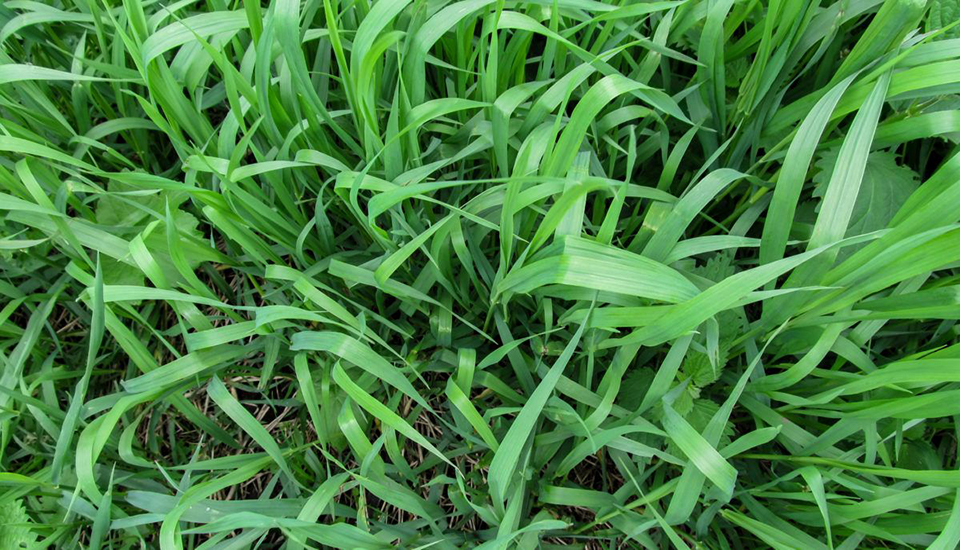crabgrass: (4, 1, 944, 550)
